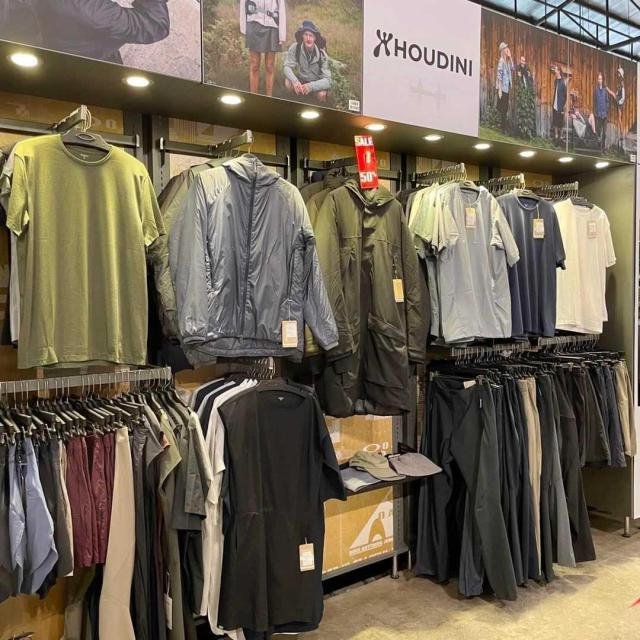Tshirt: (4, 136, 158, 368), (216, 394, 332, 632), (430, 185, 520, 342)
sweater: (175, 165, 325, 359), (317, 183, 424, 372)
